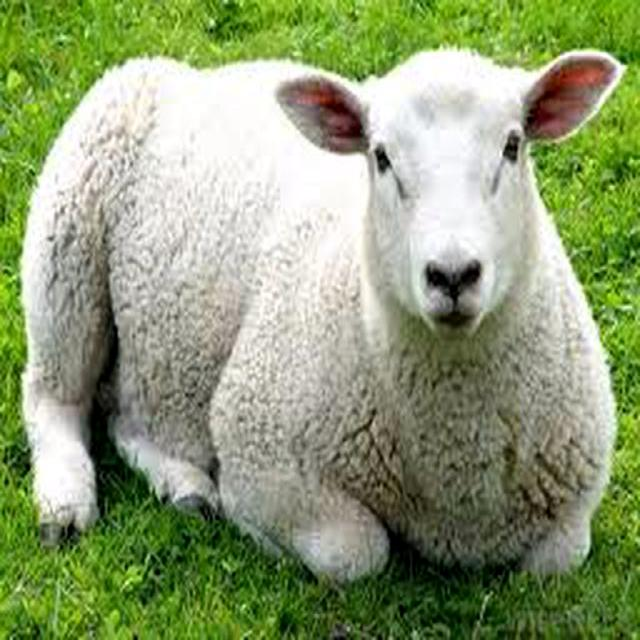sheep: (15, 47, 625, 587)
